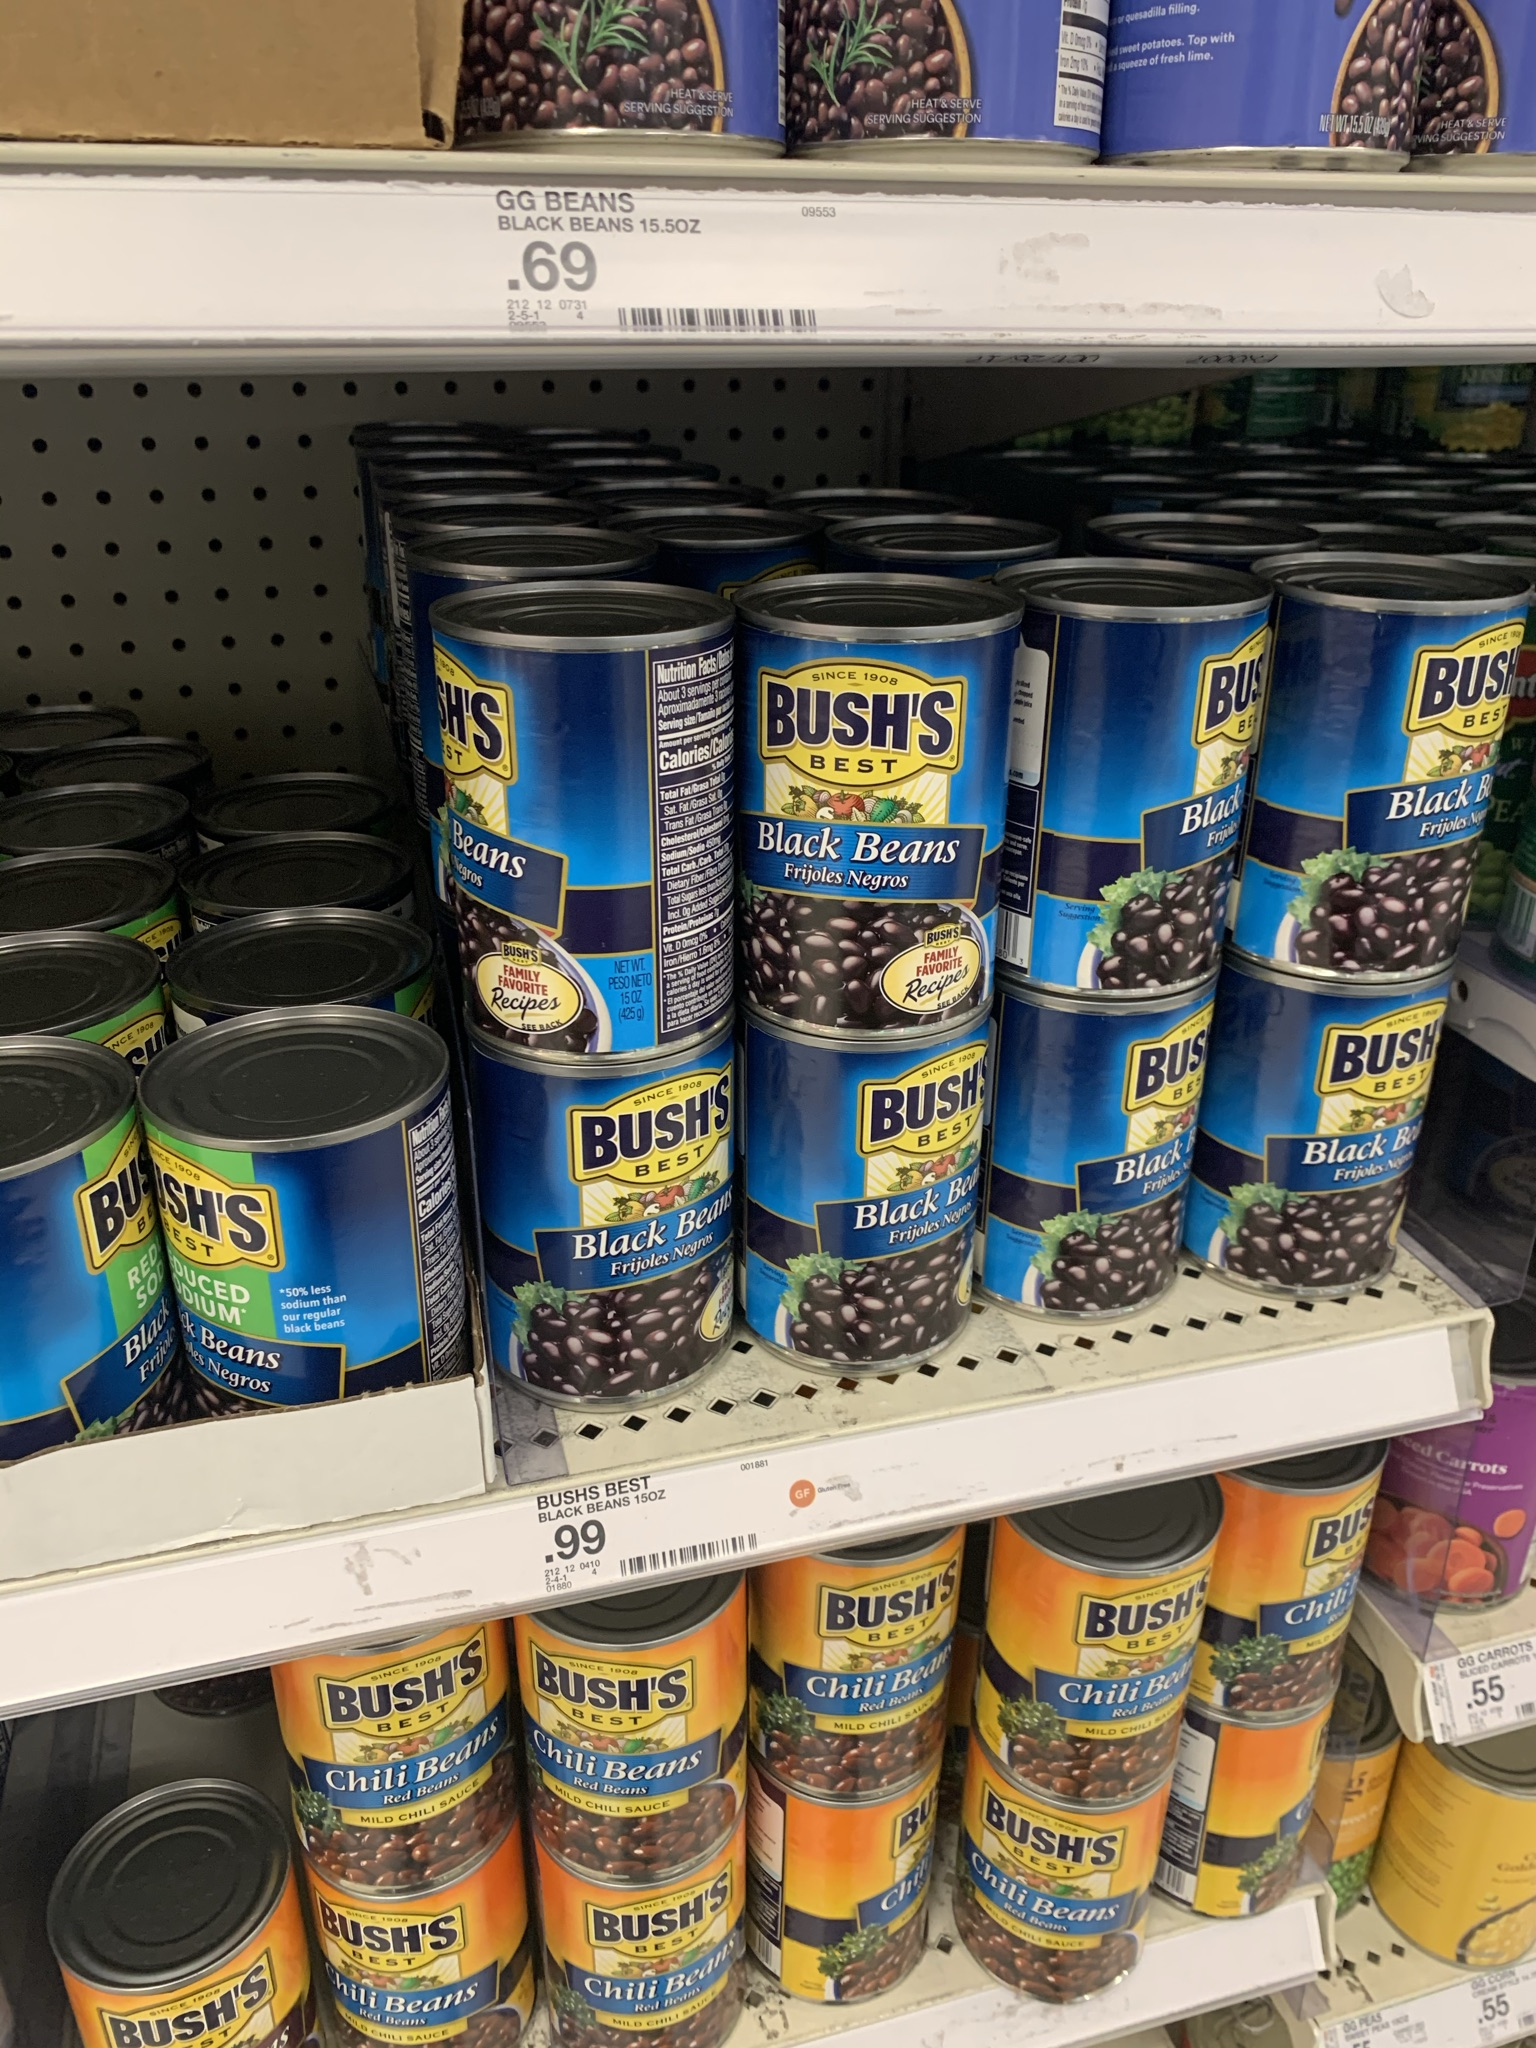can: (426, 634, 741, 1068), (750, 611, 1020, 1043), (1028, 595, 1262, 1001), (145, 1127, 463, 1392), (1273, 597, 1463, 974), (494, 1082, 721, 1388), (765, 1058, 968, 1355), (1004, 997, 1199, 1305), (518, 1621, 744, 1884), (278, 1656, 518, 1900), (1228, 992, 1409, 1301), (757, 1559, 957, 1809), (1013, 1508, 1192, 1784), (311, 1893, 534, 2048), (765, 1800, 933, 2004), (995, 1808, 1150, 1990)
